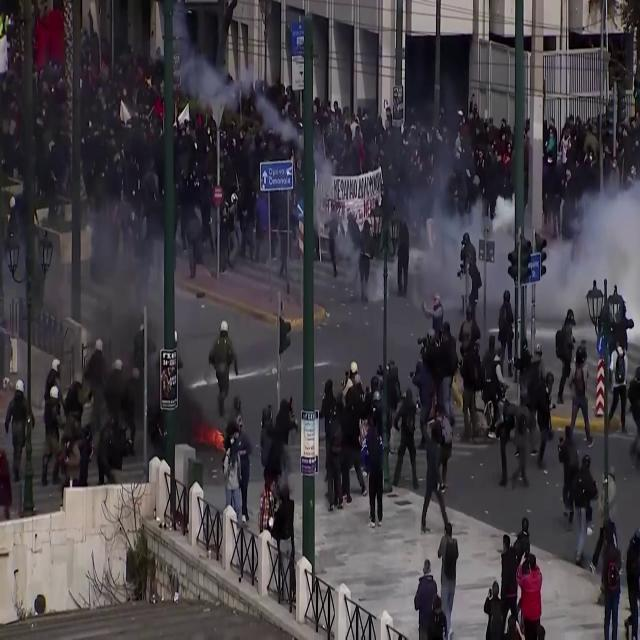Smoke: (42, 192, 165, 412), (398, 132, 497, 322), (536, 177, 640, 333)
